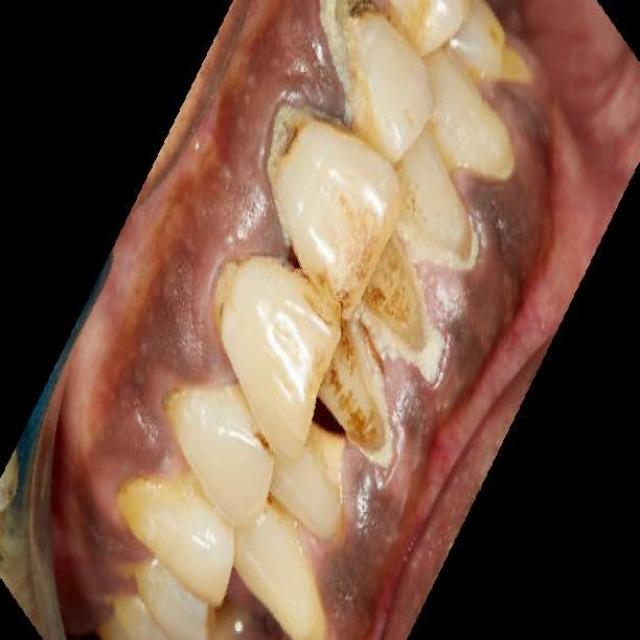calculus: (245, 92, 351, 219), (313, 2, 409, 136), (312, 336, 398, 481), (347, 236, 430, 367), (202, 244, 262, 348)
